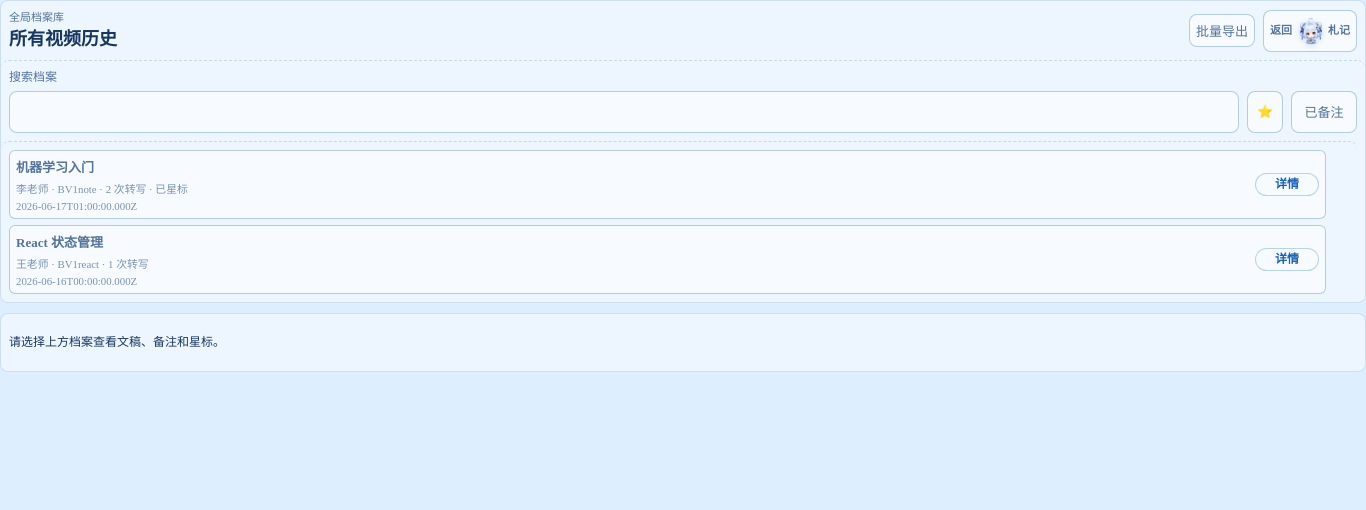
Test: VideoNoteArchivePanel › marks only the clicked archive video as expanded in the list
Expected: the 1st text "详情" is shown, 1255,173 -> 1319,196
Expected: the 2nd text "详情" is shown, 1255,248 -> 1319,271
Click the button "机器学习入门" at (55, 167), box 9,150 -> 1326,219
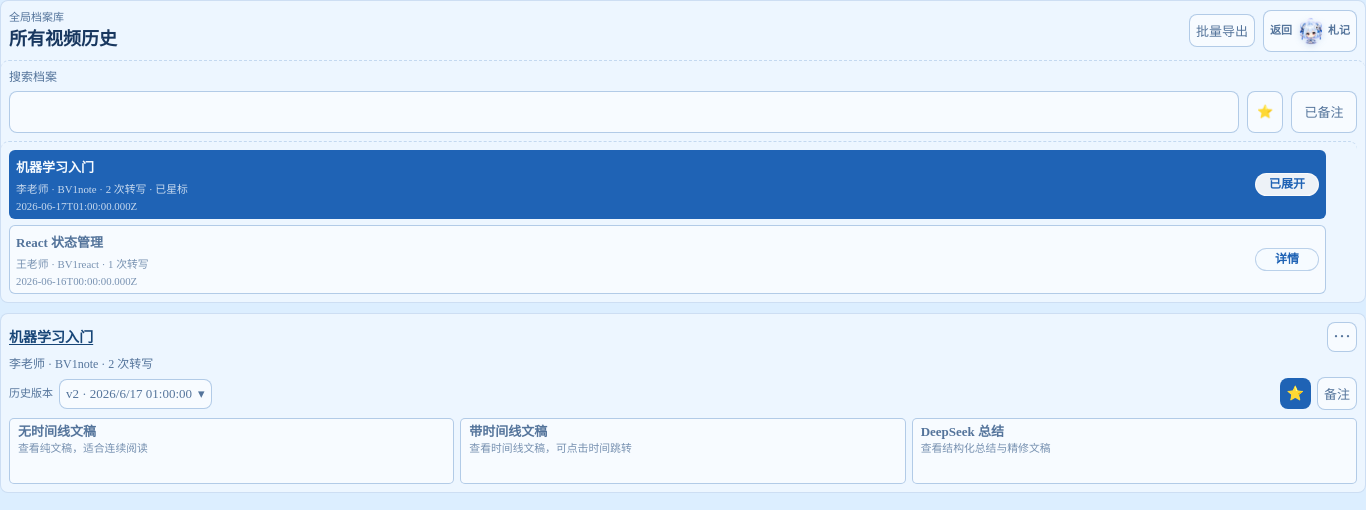
Expected: the text "详情" is shown, 1255,248 -> 1319,271
Result: the text "已展开" is shown at 1255,173 -> 1319,196
Click the button "React 状态管理" at (60, 242), box 9,225 -> 1326,294
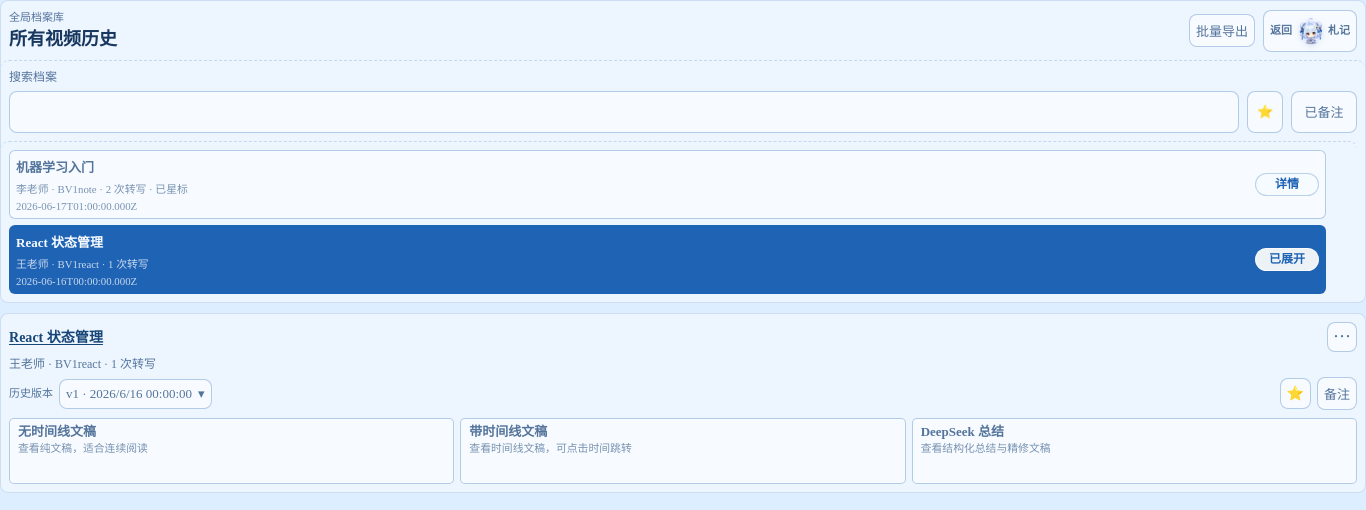
Result: the text "详情" is shown at 1255,173 -> 1319,196
Result: the text "已展开" is shown at 1255,248 -> 1319,271
